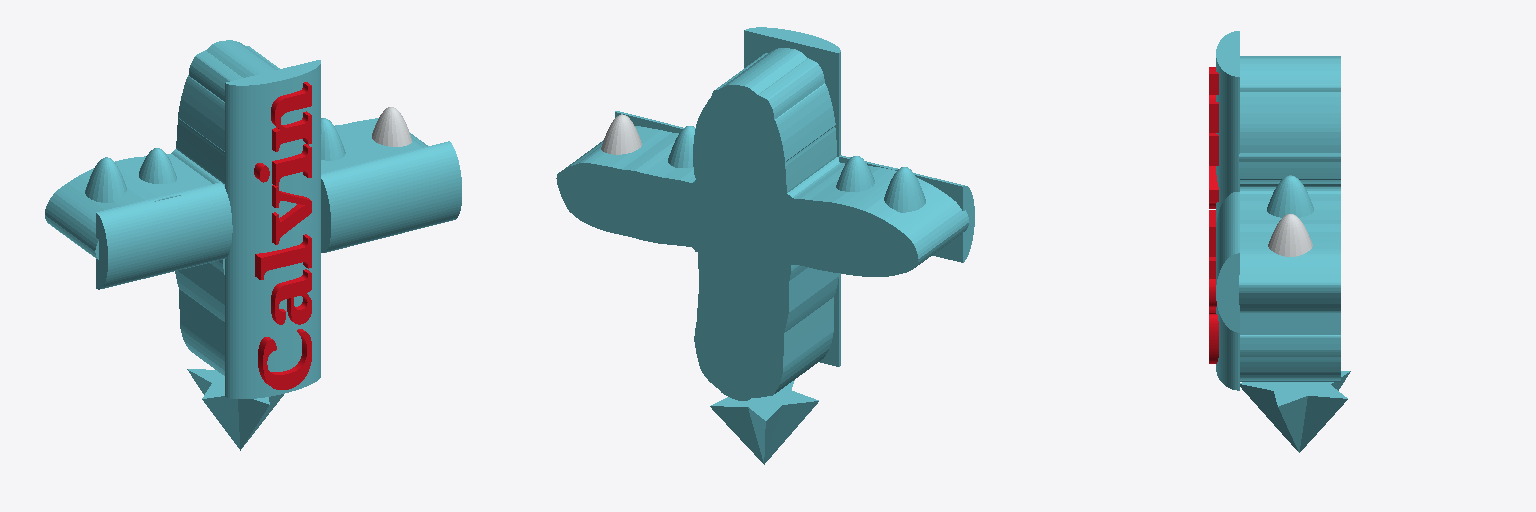
File: tinker.obj
3 renders of one model, left to right at view 1: azimuth 30°, elevation 25°; view 2: azimuth 150°, elevation 25°; view 3: azimuth 270°, elevation 25°, orthographic.
Visible parts, largest first — view 1: obj_0; view 2: obj_0; view 3: obj_0.
Part boxes in pixels (x1,y1,x2,y2): obj_0: (45, 40, 461, 450); obj_0: (556, 27, 974, 464); obj_0: (1209, 31, 1350, 452).
Bounding box in the file's own units: 174 × 184 × 59.26.